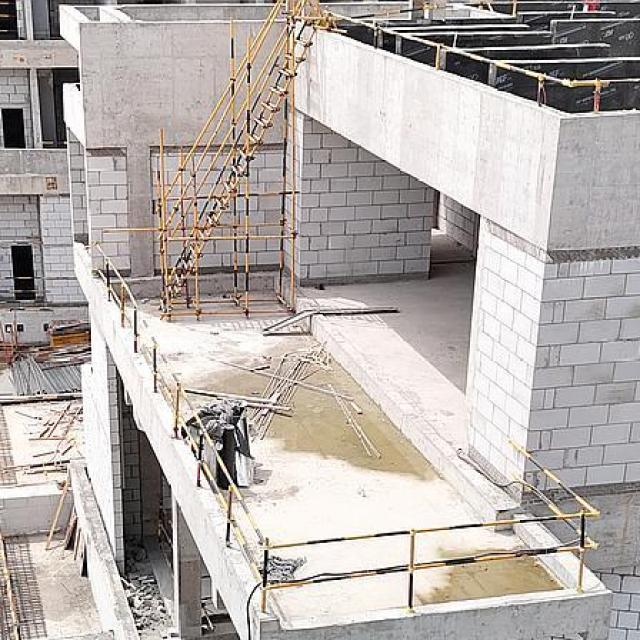edge_guardrail: (91, 240, 603, 613), (325, 8, 639, 112), (1, 540, 22, 640), (0, 276, 49, 304), (158, 498, 173, 576), (0, 1, 19, 34), (42, 138, 68, 148)
